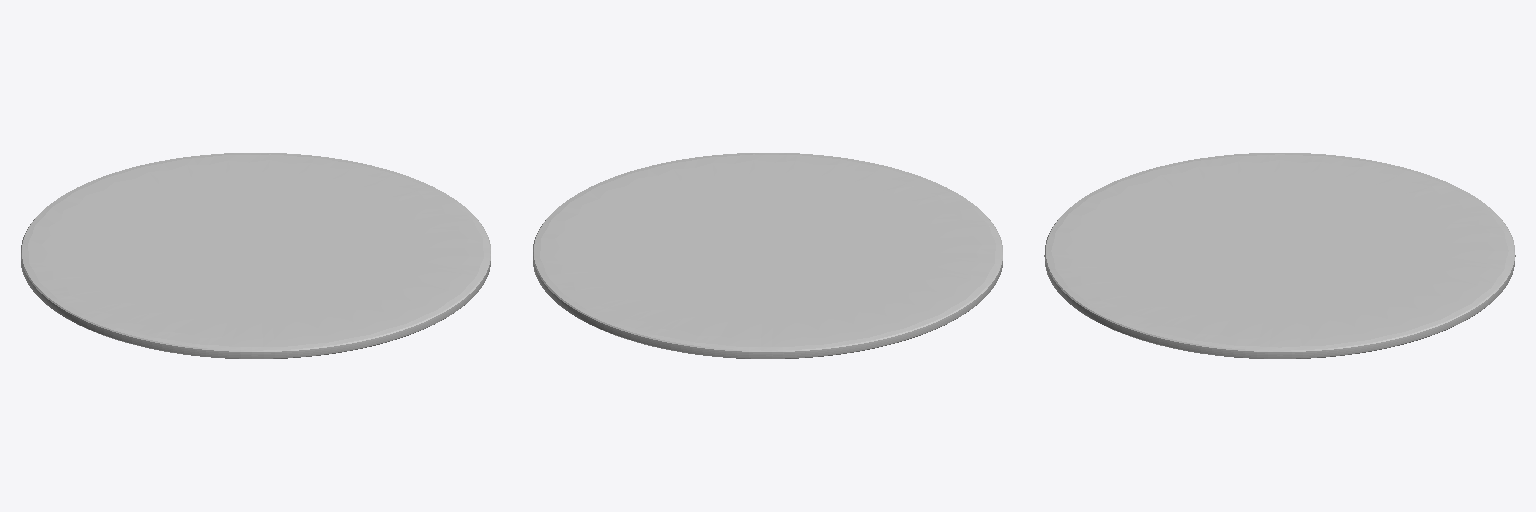
Rendered from living_table.obj.
3 renders of one model, left to right at view 1: azimuth 30°, elevation 25°; view 2: azimuth 150°, elevation 25°; view 3: azimuth 270°, elevation 25°, orthographic.
Parts seen in each view (by area): view 1: table_Circle; view 2: table_Circle; view 3: table_Circle.
Part boxes in pixels (x1,y1,x2,y2): table_Circle: (21, 153, 490, 358); table_Circle: (533, 153, 1002, 358); table_Circle: (1044, 153, 1515, 358).
Bounding box in the file's own units: 1.2 × 0.0332 × 1.2.